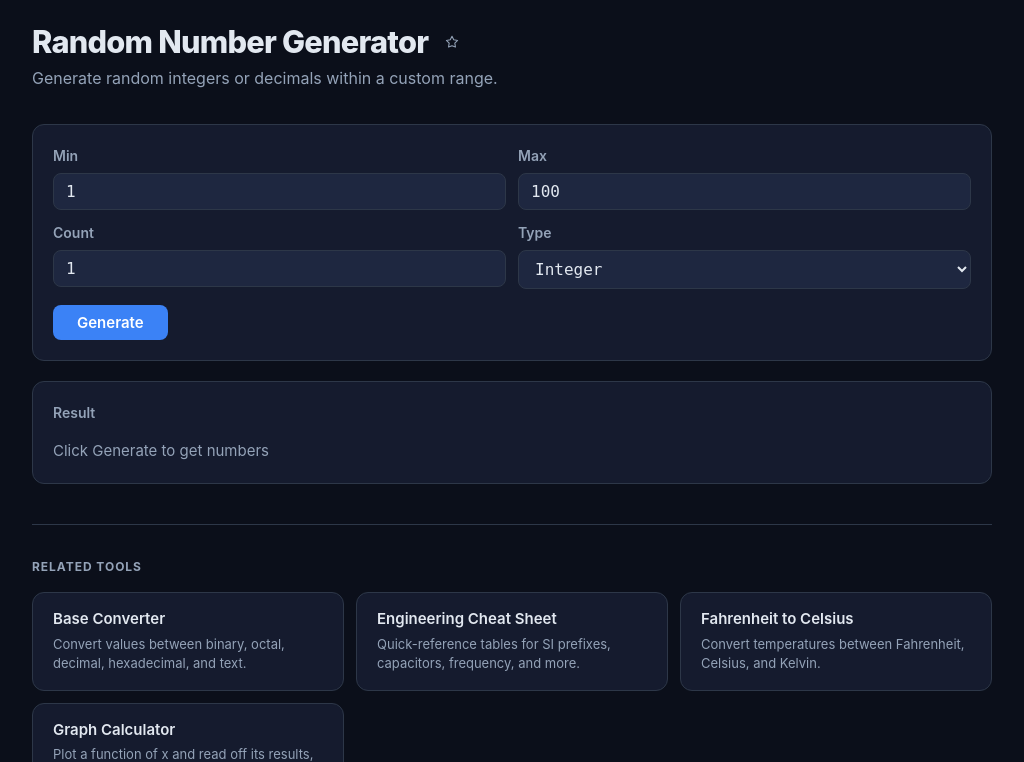
it: RandomNumber › changing count to 5 and clicking Generate shows multiple numbers
Replace the text in the number field labelled "Count" with "5": (280,269) [53,250,506,288]
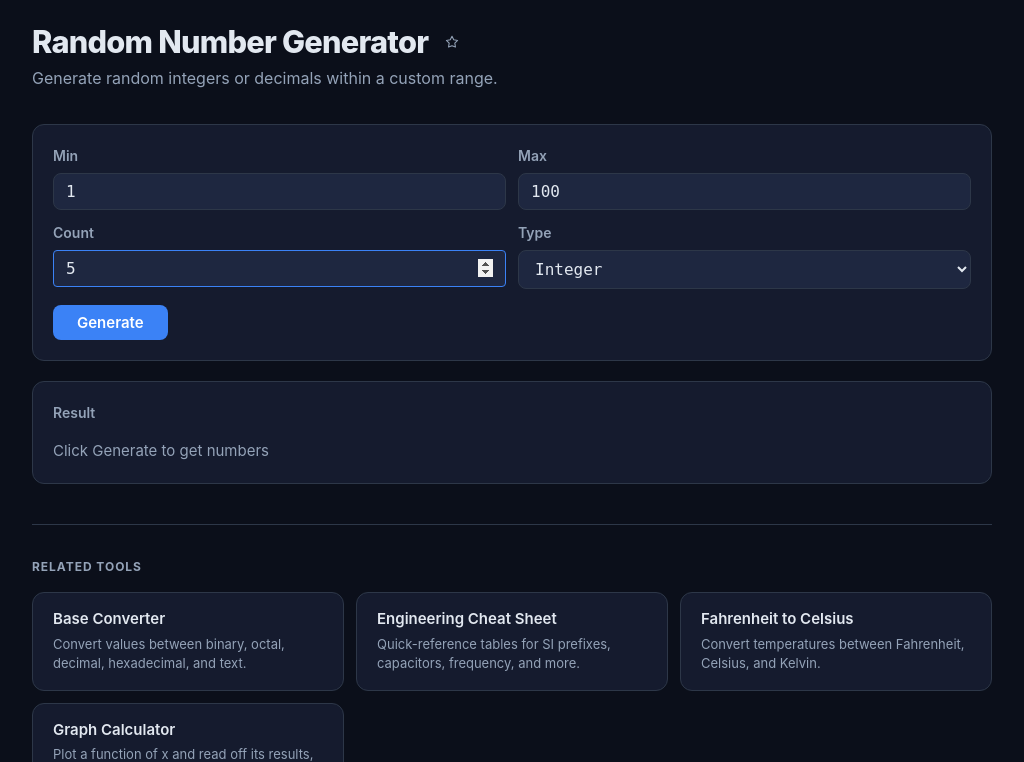
Click the button "Generate": (110,323) [53,306,168,340]
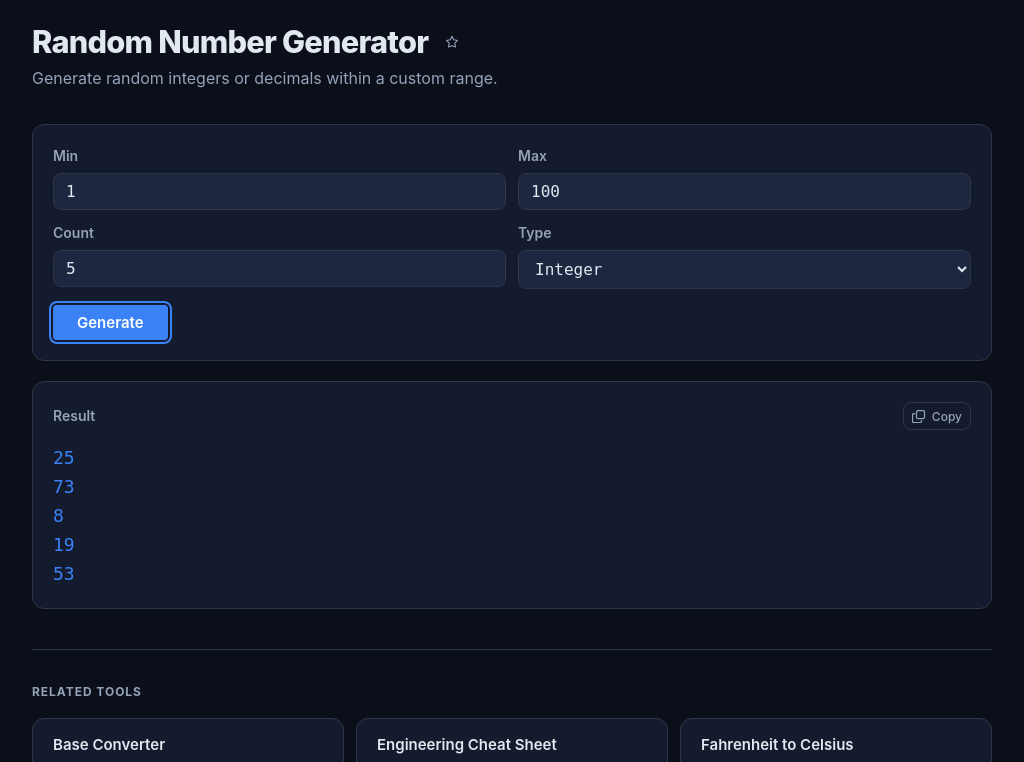
expect the text "25 73 8 19 53" is shown: met, box [53,448,75,584]
